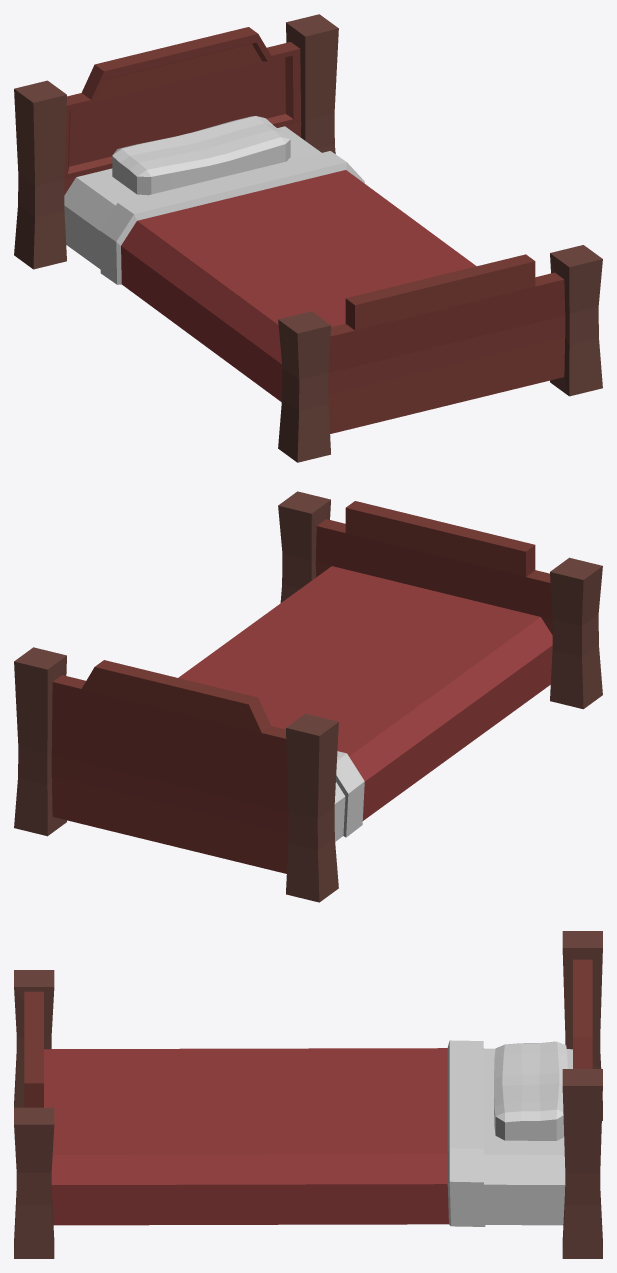
File: quaternius-bed.glb
The picture shows the model from 3 angles, top to bottom: view 1: azimuth 30°, elevation 25°; view 2: azimuth 150°, elevation 25°; view 3: azimuth 270°, elevation 25°; orthographic projection. The views are drawn at different scales.
Visible parts, largest first — view 1: Bed; view 2: Bed; view 3: Bed.
Boxes of the visible parts, x1=… form: Bed: x1=14, y1=14, x2=602, y2=462; Bed: x1=14, y1=491, x2=602, y2=902; Bed: x1=14, y1=931, x2=602, y2=1258.
Bounding box in the file's own units: 0.8898 × 0.4898 × 1.43.
